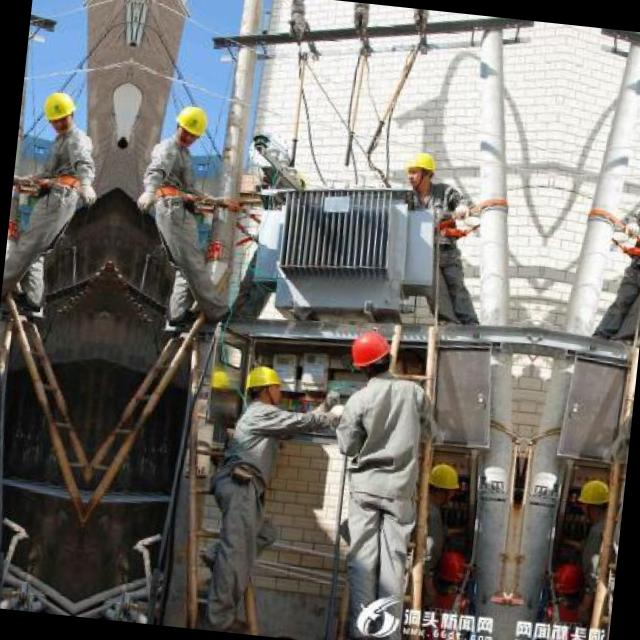helmet: (346, 326, 393, 380), (242, 360, 286, 407), (423, 458, 462, 511), (574, 474, 612, 526), (402, 144, 438, 195), (170, 99, 208, 145), (42, 86, 80, 132)
